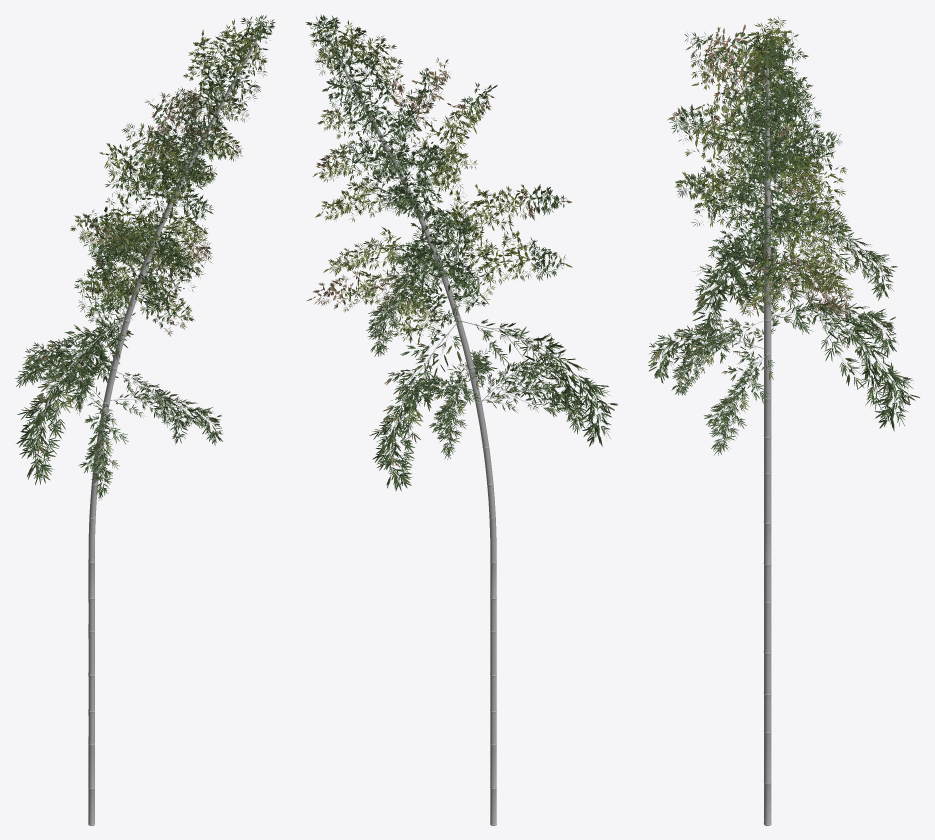
The model's file is MS_Bamboo_a2.fbx.
3 renders of one model, left to right at view 1: azimuth 30°, elevation 25°; view 2: azimuth 150°, elevation 25°; view 3: azimuth 270°, elevation 25°, orthographic. The views are drawn at different scales.
Visible parts, largest first — view 1: pasted__精模竹子; view 2: pasted__精模竹子; view 3: pasted__精模竹子.
Part boxes in pixels (left/top/right/bottom): pasted__精模竹子: left=15, top=15, right=275, bottom=825; pasted__精模竹子: left=305, top=14, right=617, bottom=825; pasted__精模竹子: left=648, top=16, right=919, bottom=825.
Size of the model in its own units: 1658 by 1211 by 4324.
